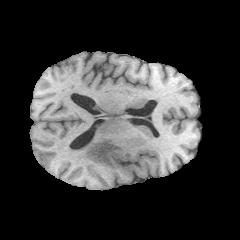glioma: (68, 139, 121, 168)
